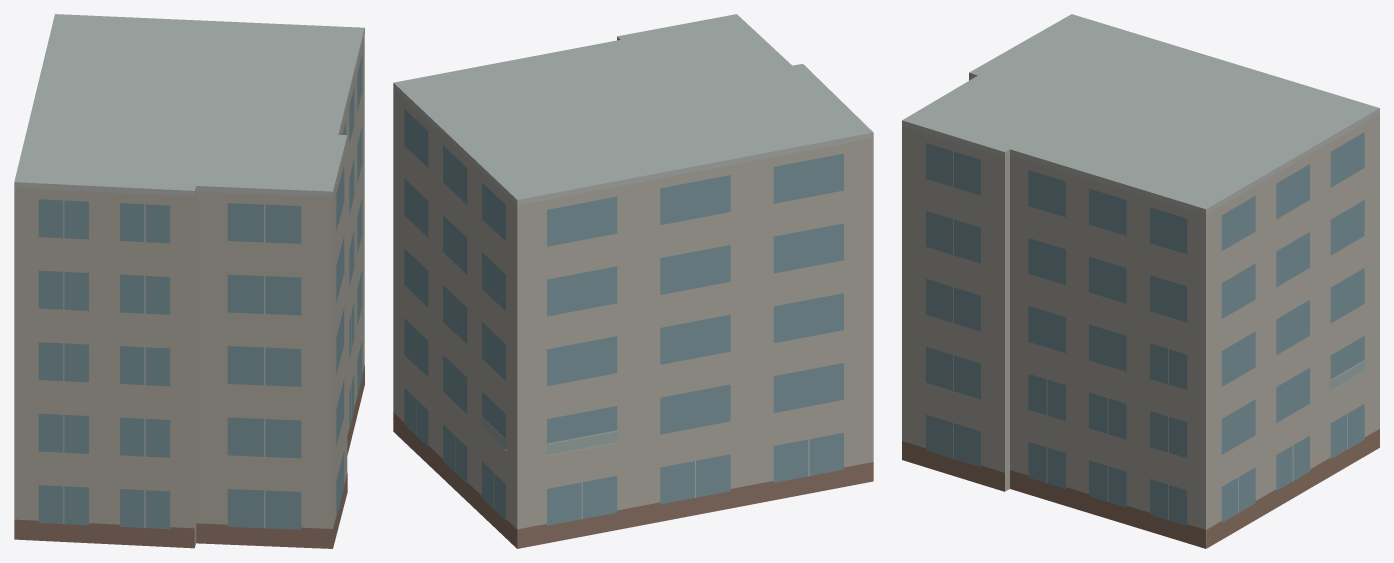
File: survey-upis-32536755.glb
3 views of the same model, side by side, from view 1: azimuth 30°, elevation 25°; view 2: azimuth 150°, elevation 25°; view 3: azimuth 270°, elevation 25° (orthographic). The views are drawn at different scales.
Visible parts, largest first — view 1: survey-upis-32536755.tmp; view 2: survey-upis-32536755.tmp; view 3: survey-upis-32536755.tmp.
Part boxes in pixels (left/top/right/bottom): survey-upis-32536755.tmp: left=14, top=14, right=364, bottom=548; survey-upis-32536755.tmp: left=393, top=14, right=873, bottom=548; survey-upis-32536755.tmp: left=902, top=14, right=1379, bottom=548.
Size of the model in its own units: 18.82 by 15.25 by 19.45.
